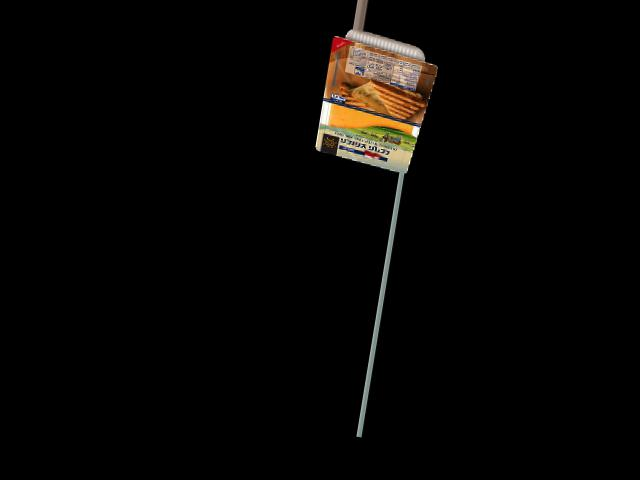cheese: (317, 26, 439, 174)
